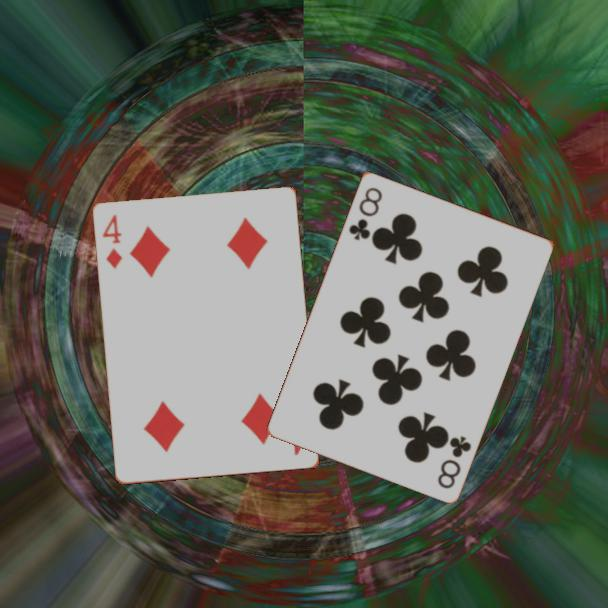c08: (345, 183, 385, 243), (434, 432, 474, 491)
d04: (99, 211, 125, 272)
